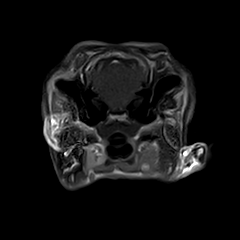Brain: (66, 28, 165, 126)
